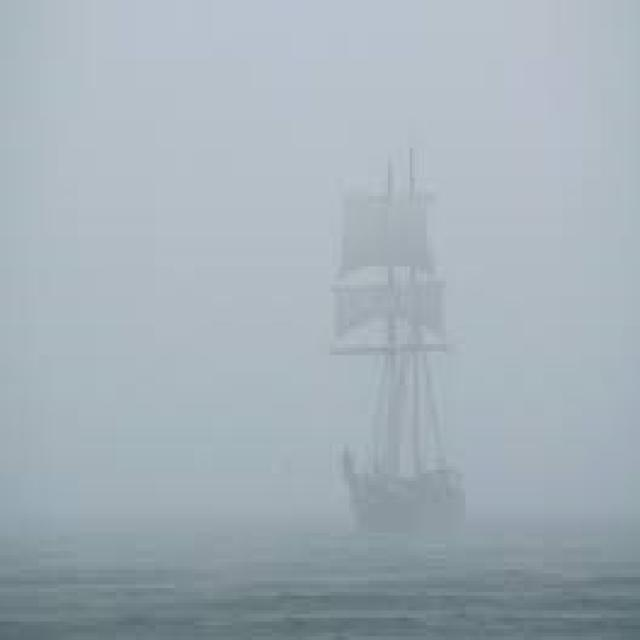fishing boat: (296, 141, 477, 539)
